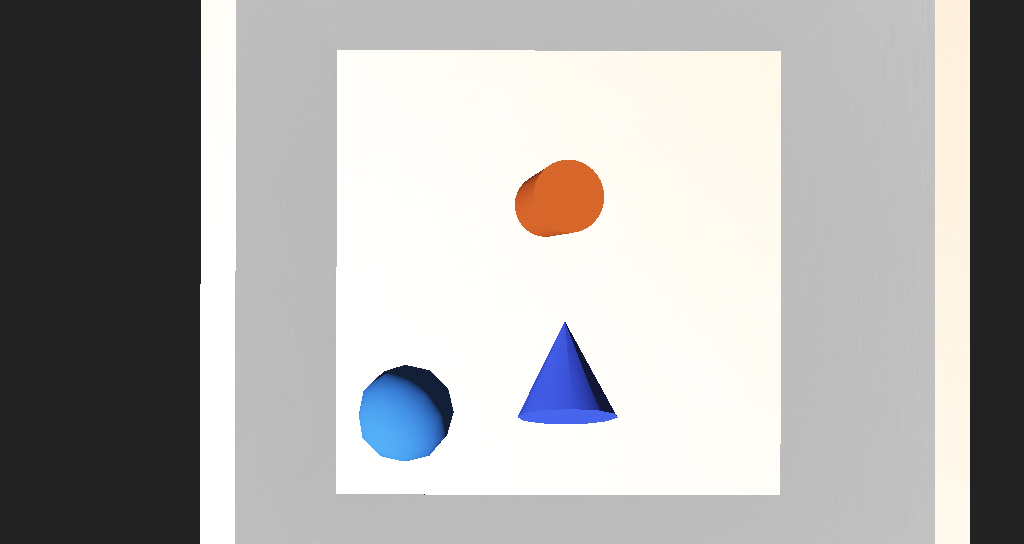cone: (475, 215, 536, 253)
cylinder: (482, 282, 542, 348)
sphere: (374, 310, 435, 358)
